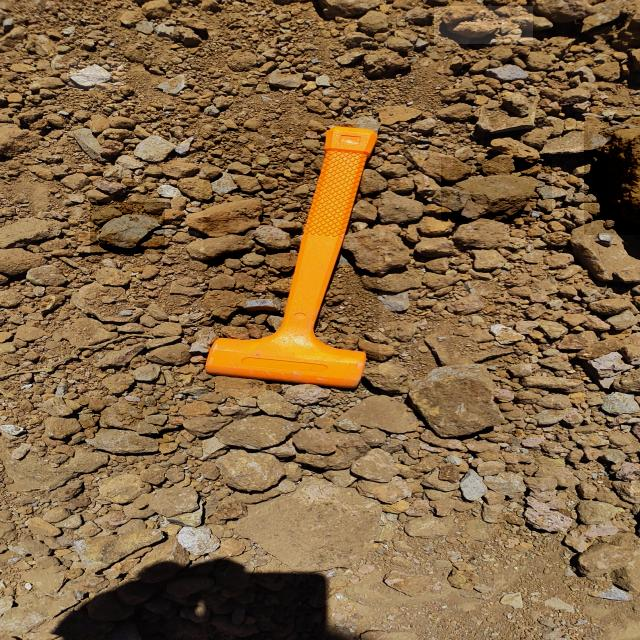Orange_hammer: (203, 124, 379, 389)
rock: (416, 358, 520, 444), (441, 157, 552, 222), (584, 118, 640, 235), (80, 398, 169, 448), (90, 202, 165, 255), (434, 6, 533, 44), (67, 62, 126, 90)
